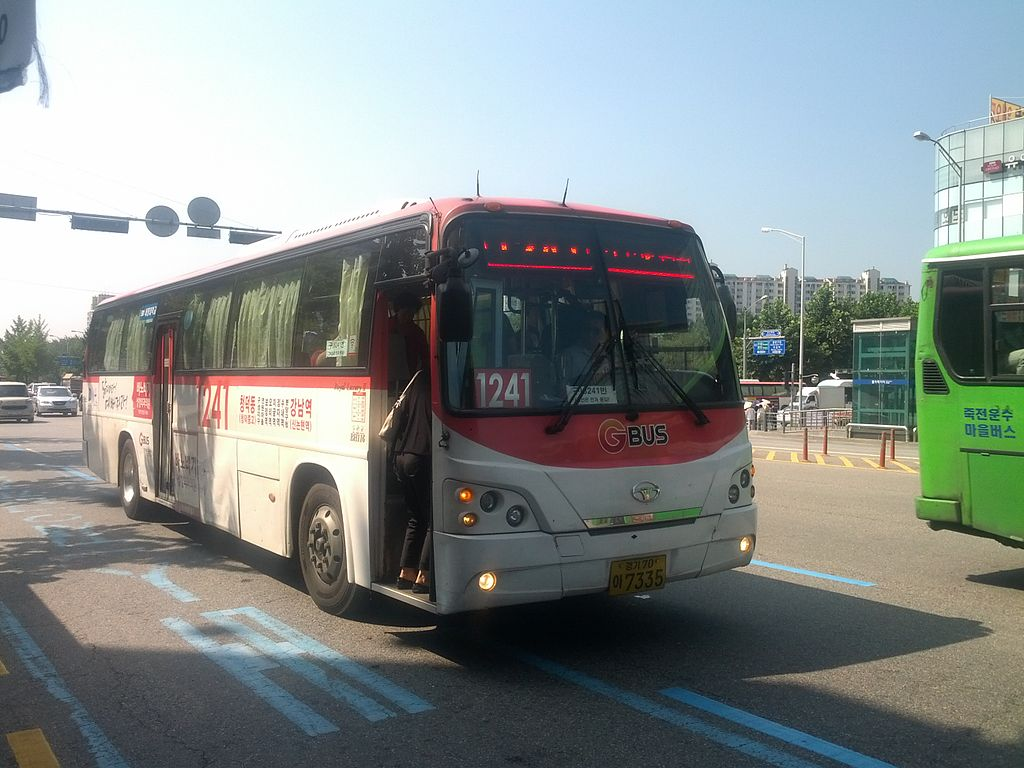bnum: (472, 366, 533, 409)
